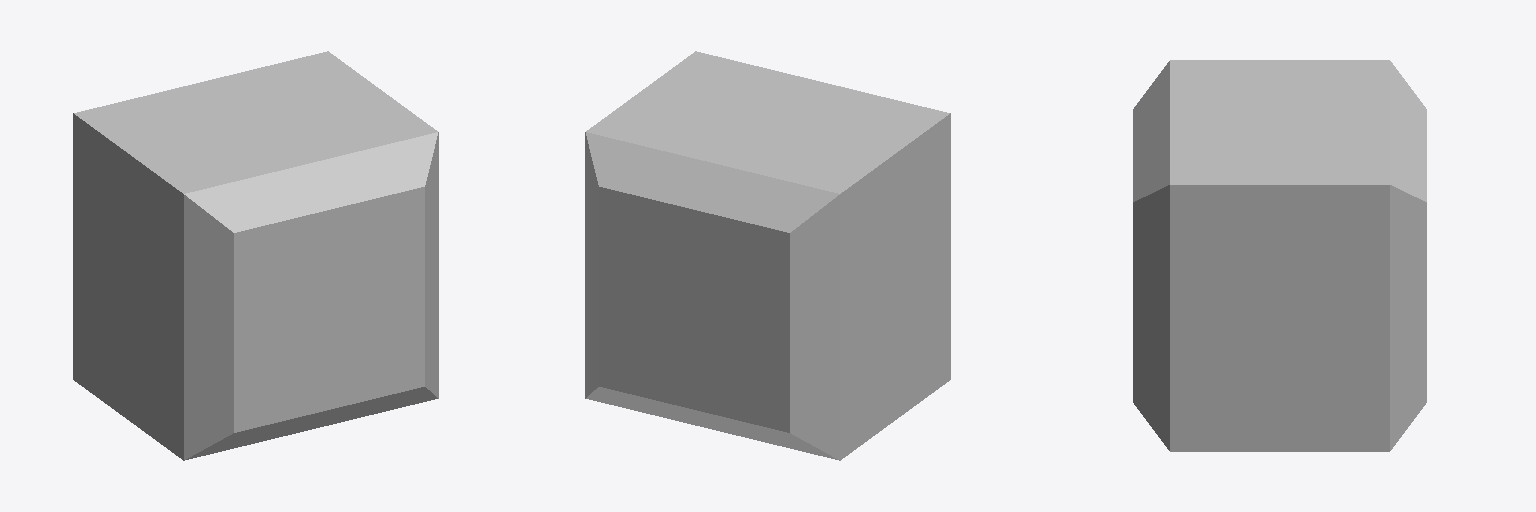
The model's file is standard mino.obj.
3 views of the same model, side by side, from view 1: azimuth 30°, elevation 25°; view 2: azimuth 150°, elevation 25°; view 3: azimuth 270°, elevation 25° (orthographic).
Visible parts, largest first — view 1: Cube; view 2: Cube; view 3: Cube.
Part boxes in pixels (bbox=[...]): Cube: bbox=[73, 51, 438, 460]; Cube: bbox=[585, 51, 950, 460]; Cube: bbox=[1133, 60, 1426, 451].
Size of the model in its own units: 1 by 1 by 1.